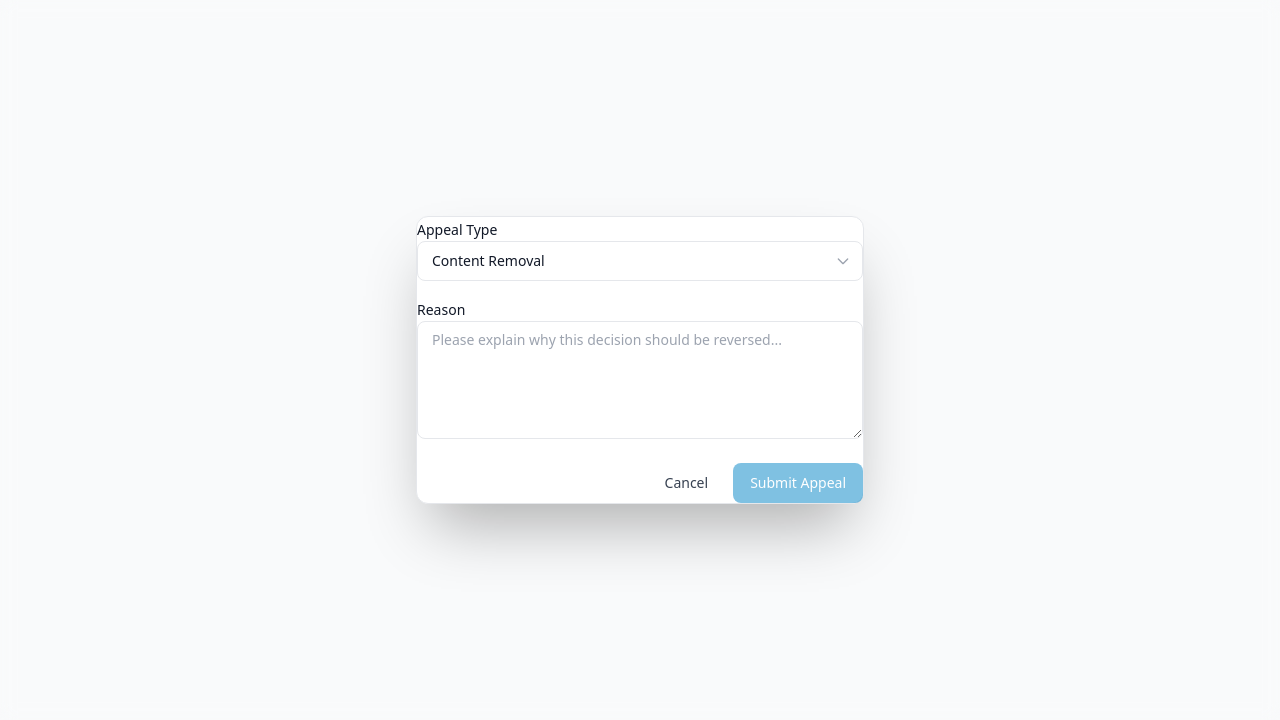
Test: AppealModal Component › should show loading state while submitting
Step 1. Type "This is my appeal reason" into the text box with placeholder "Please explain why this decision should be reversed..." → (640, 380), box [417,321,863,439]
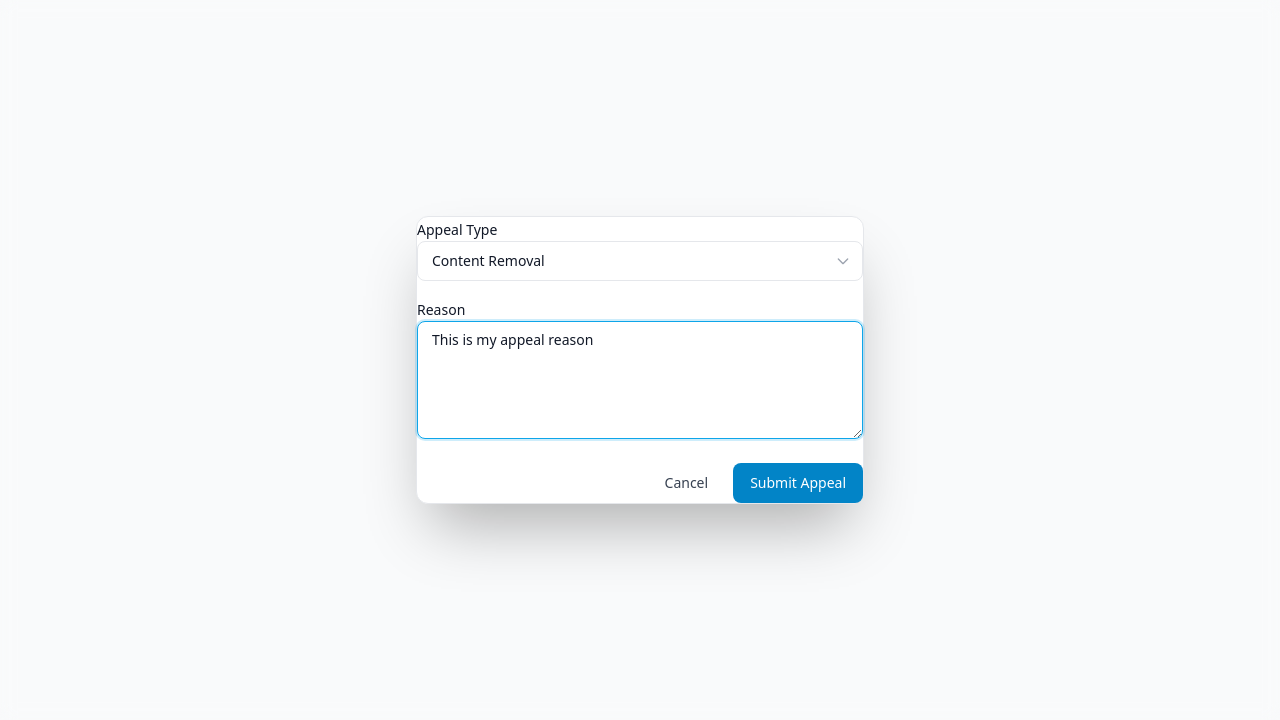
Step 2. Click the button "Submit Appeal" → (798, 483), box [733,463,863,503]
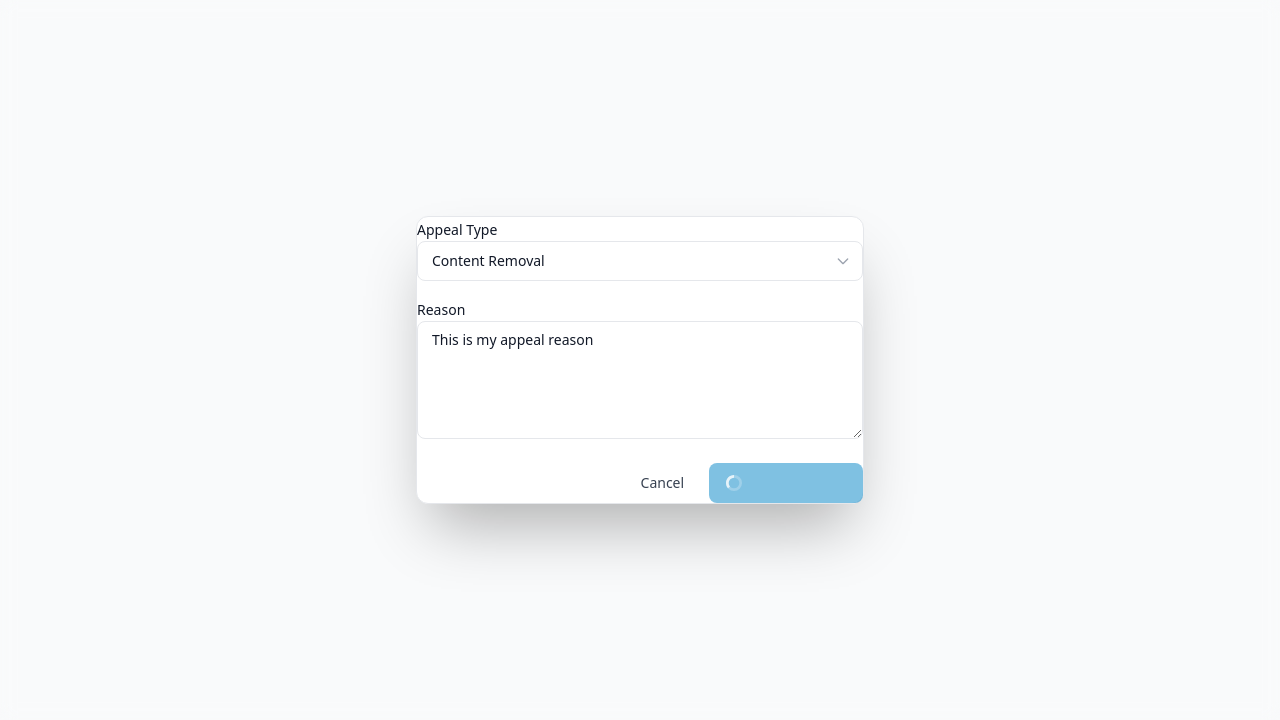
Expected: the button named "Submit Appeal" is disabled, [709,463,863,503]
